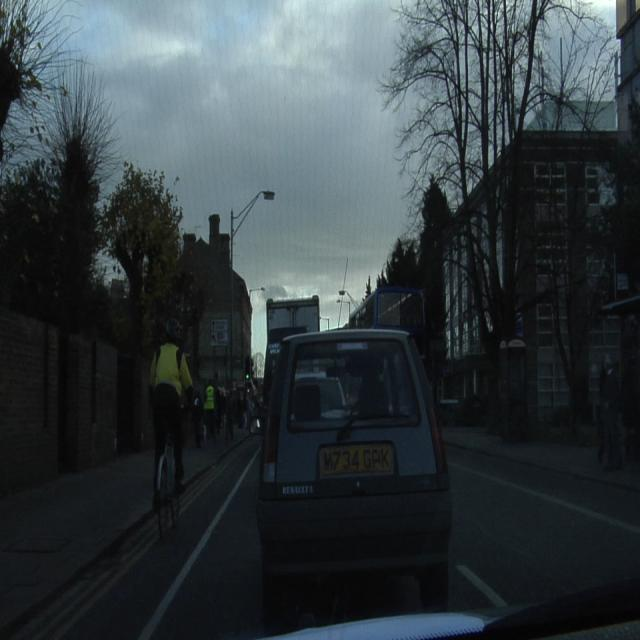Bicyclist: (152, 319, 185, 536)
Building: (180, 213, 230, 386), (618, 2, 639, 309), (232, 272, 252, 382)
Car: (258, 329, 450, 616)
Road: (13, 437, 258, 639), (146, 467, 427, 637), (446, 445, 640, 612)
Tree: (381, 0, 614, 414), (101, 163, 182, 357)
